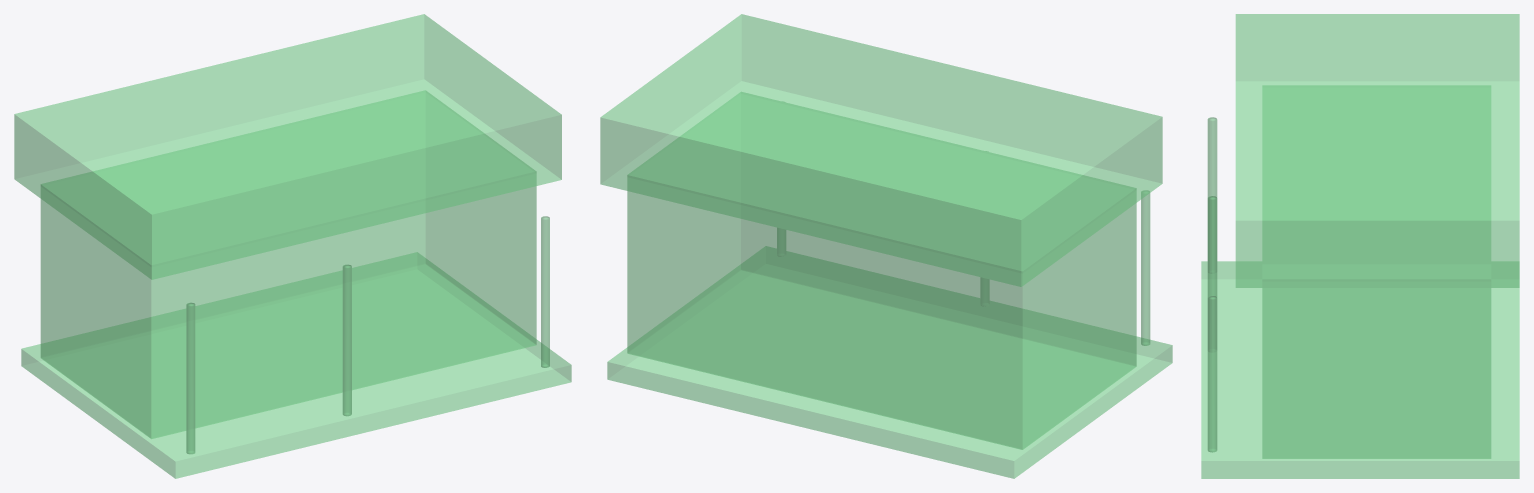
The model's file is prop_house_col.glb.
3 renders of one model, left to right at view 1: azimuth 30°, elevation 25°; view 2: azimuth 150°, elevation 25°; view 3: azimuth 270°, elevation 25°, orthographic. The views are drawn at different scales.
Visible parts, largest first — view 1: prop_house_col_1, prop_house_col_2, prop_house_col_0, prop_house_col_3, prop_house_col_4, prop_house_col_5; view 2: prop_house_col_1, prop_house_col_2, prop_house_col_0, prop_house_col_3; view 3: prop_house_col_1, prop_house_col_2, prop_house_col_0, prop_house_col_5, prop_house_col_4, prop_house_col_3.
Part boxes in pixels (left/top/right/bottom): prop_house_col_1: left=40, top=90, right=536, bottom=438; prop_house_col_2: left=14, top=14, right=561, bottom=279; prop_house_col_0: left=21, top=252, right=571, bottom=478; prop_house_col_3: left=186, top=302, right=195, bottom=454; prop_house_col_4: left=342, top=264, right=351, bottom=416; prop_house_col_5: left=541, top=216, right=549, bottom=367; prop_house_col_1: left=627, top=92, right=1136, bottom=449; prop_house_col_2: left=600, top=14, right=1162, bottom=286; prop_house_col_0: left=607, top=246, right=1172, bottom=478; prop_house_col_3: left=1141, top=190, right=1150, bottom=345; prop_house_col_1: left=1262, top=85, right=1491, bottom=458; prop_house_col_2: left=1235, top=14, right=1519, bottom=287; prop_house_col_0: left=1201, top=261, right=1519, bottom=478; prop_house_col_5: left=1207, top=296, right=1217, bottom=452; prop_house_col_4: left=1207, top=196, right=1217, bottom=351; prop_house_col_3: left=1207, top=117, right=1217, bottom=273.
Size of the model in its own units: 5.9 by 3.49 by 3.84.
